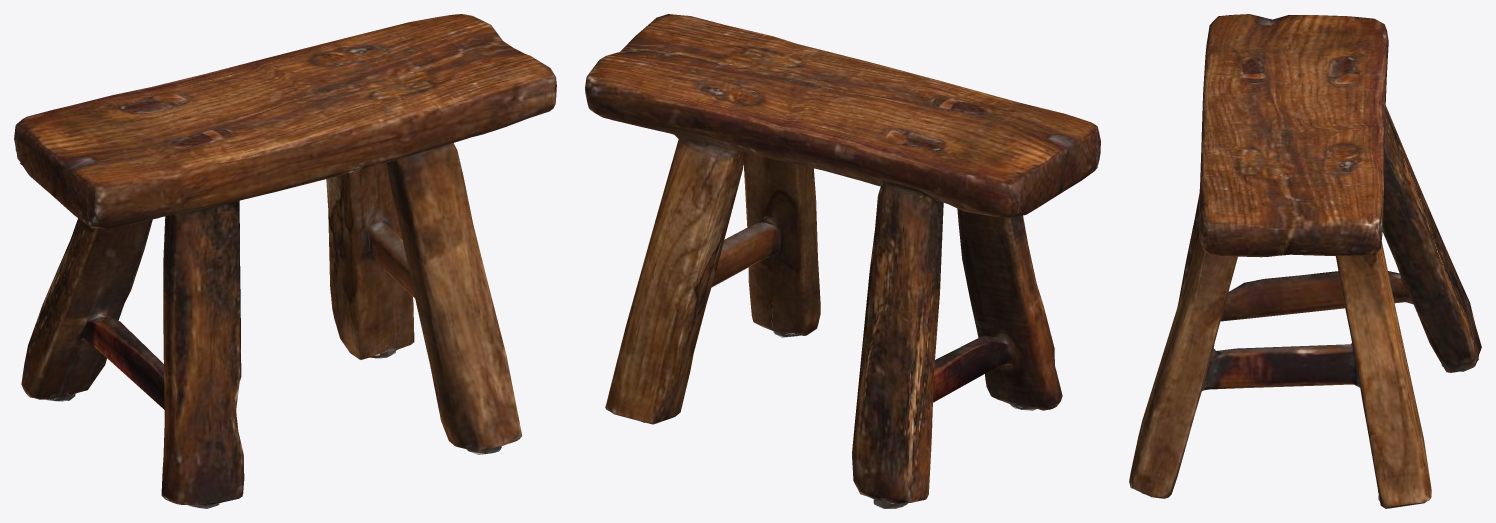
Rendered from stool_tall.glb.
The picture shows the model from 3 angles, left to right: view 1: azimuth 30°, elevation 25°; view 2: azimuth 150°, elevation 25°; view 3: azimuth 270°, elevation 25°; orthographic projection. The views are drawn at different scales.
Visible parts, largest first — view 1: wooden_stool_02; view 2: wooden_stool_02; view 3: wooden_stool_02.
Boxes of the visible parts, <box> form: wooden_stool_02: <box>14,14,556,508</box>; wooden_stool_02: <box>585,14,1100,508</box>; wooden_stool_02: <box>1129,14,1481,508</box>.
Size of the model in its own units: 0.2651 by 0.1821 by 0.1836.
1 material, 1 textured.
